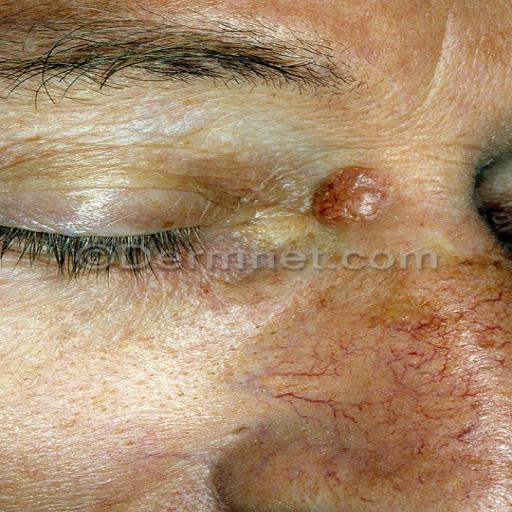Skin_Lesion: (307, 161, 386, 239), (374, 286, 472, 345)
